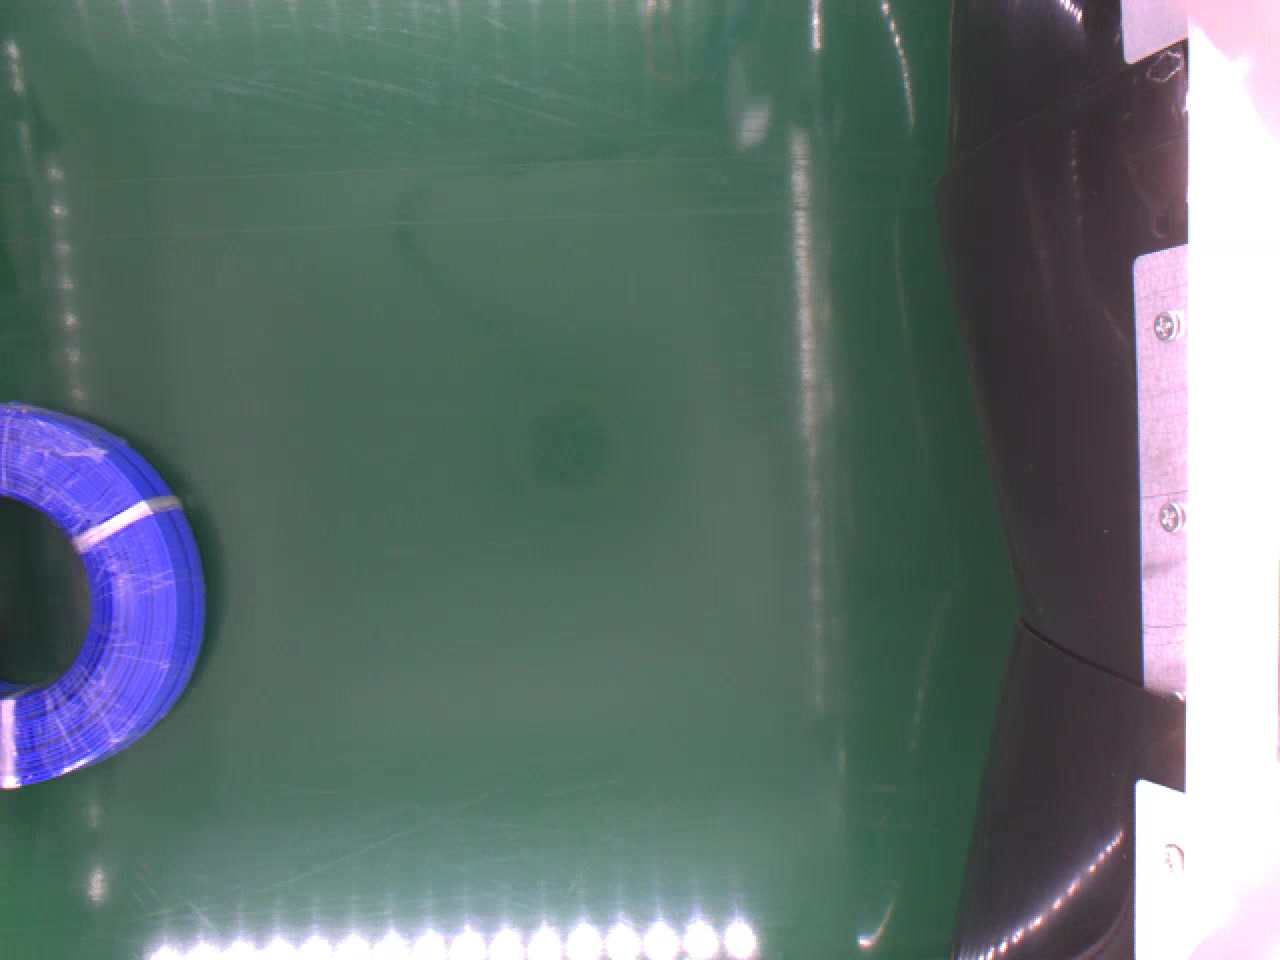blue: (1, 402, 201, 792)
